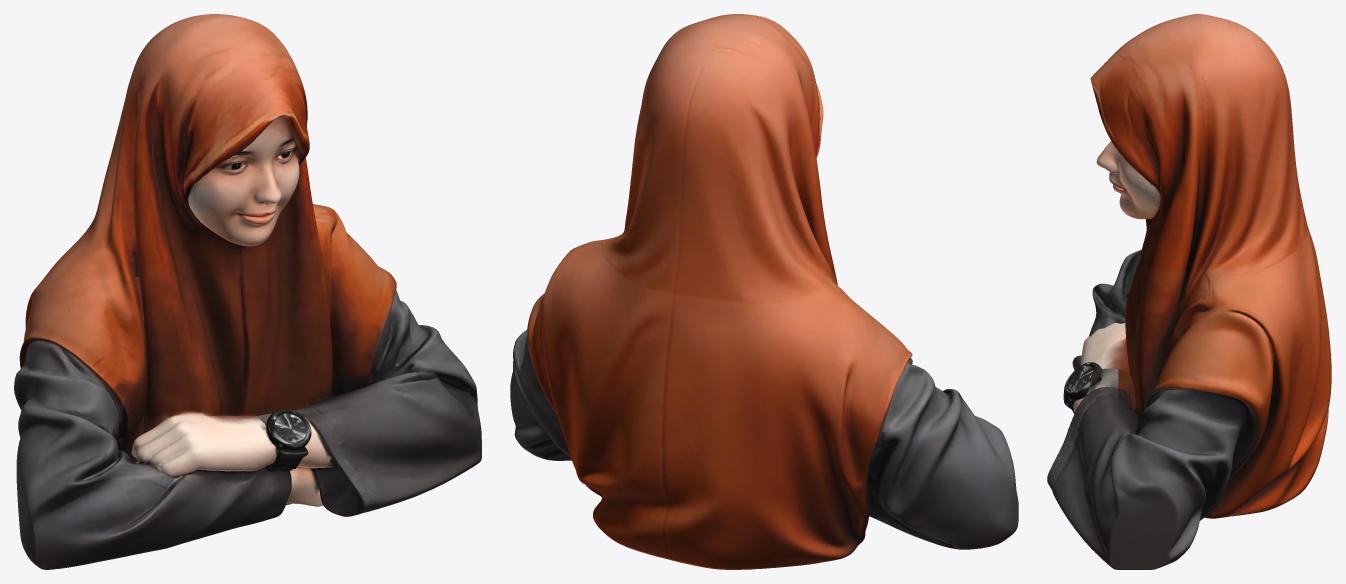
File: me_opt.glb
3 views of the same model, side by side, from view 1: azimuth 30°, elevation 25°; view 2: azimuth 150°, elevation 25°; view 3: azimuth 270°, elevation 25° (orthographic). The views are drawn at different scales.
Parts seen in each view (by area): view 1: tmpg9mpyq5aobj; view 2: tmpg9mpyq5aobj; view 3: tmpg9mpyq5aobj.
Part boxes in pixels (box(x1,y1,x2,y2)): tmpg9mpyq5aobj: box(14, 14, 481, 569); tmpg9mpyq5aobj: box(510, 14, 1018, 569); tmpg9mpyq5aobj: box(1047, 14, 1331, 569).
Bounding box in the file's own units: 32767 × 32419 × 18822.
1 material, 1 textured.
